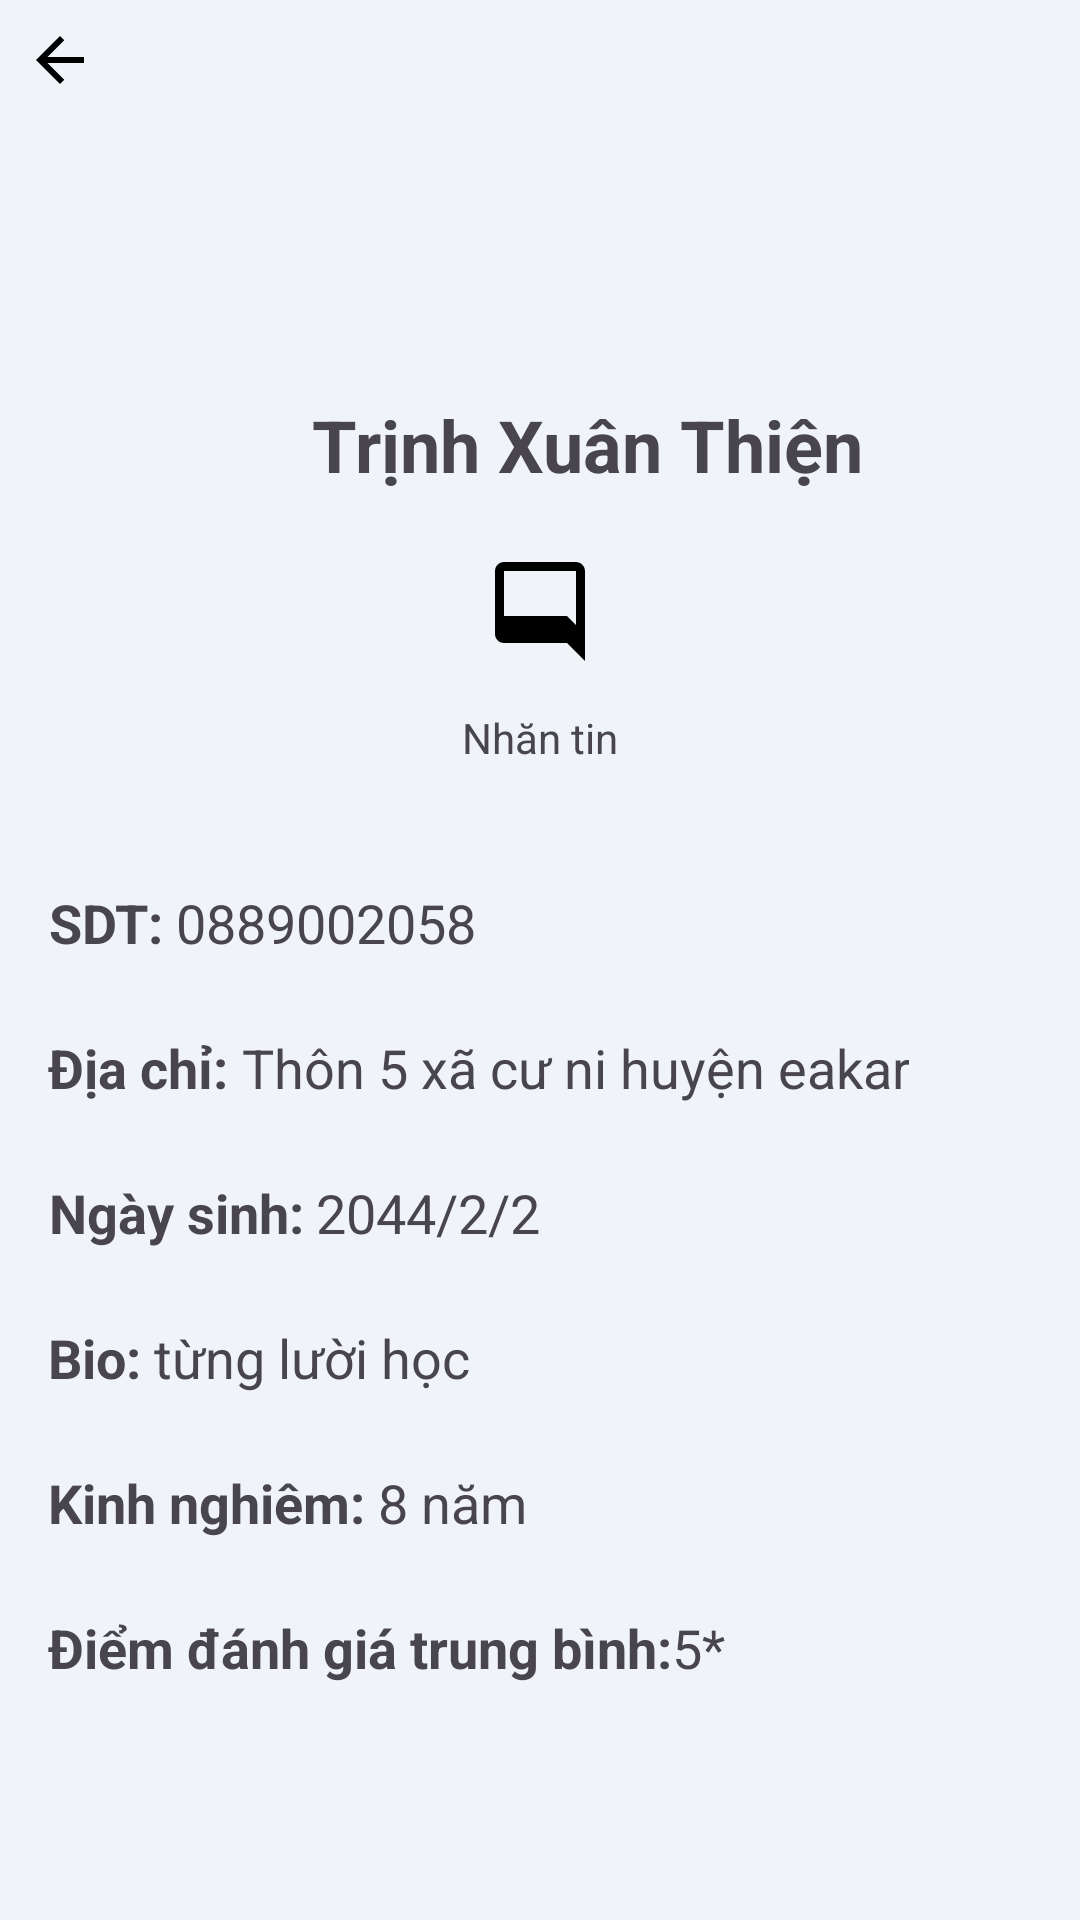

Where icons sit on this 1080 × 1920 app screen, as detection(x1, y1, x2, y2):
message: detection(495, 562, 585, 661)
Quay lại: detection(36, 36, 84, 84)
